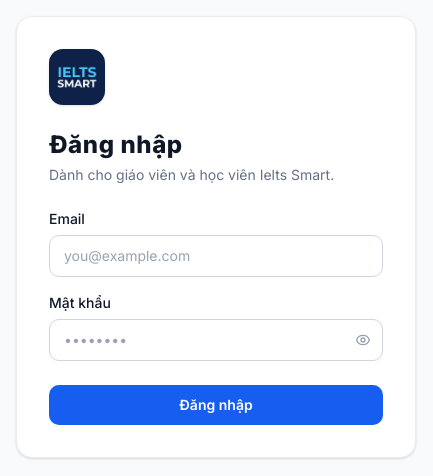
Test: AUTH-08 — Toggle show/hide password › toggle button aria-label reflects current state
Click the button named "hiện mật khẩu".
click(363, 340)  # box [343, 319, 383, 361]
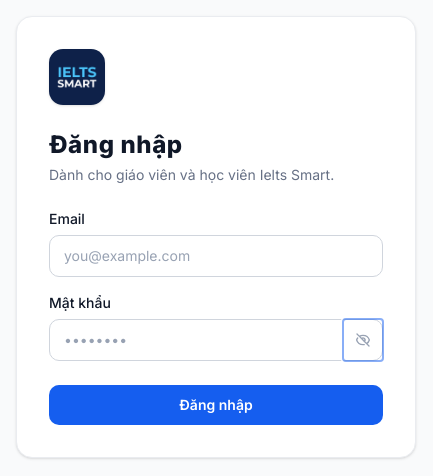
Now the button named "ẩn mật khẩu" is shown, box [343, 319, 383, 361]
